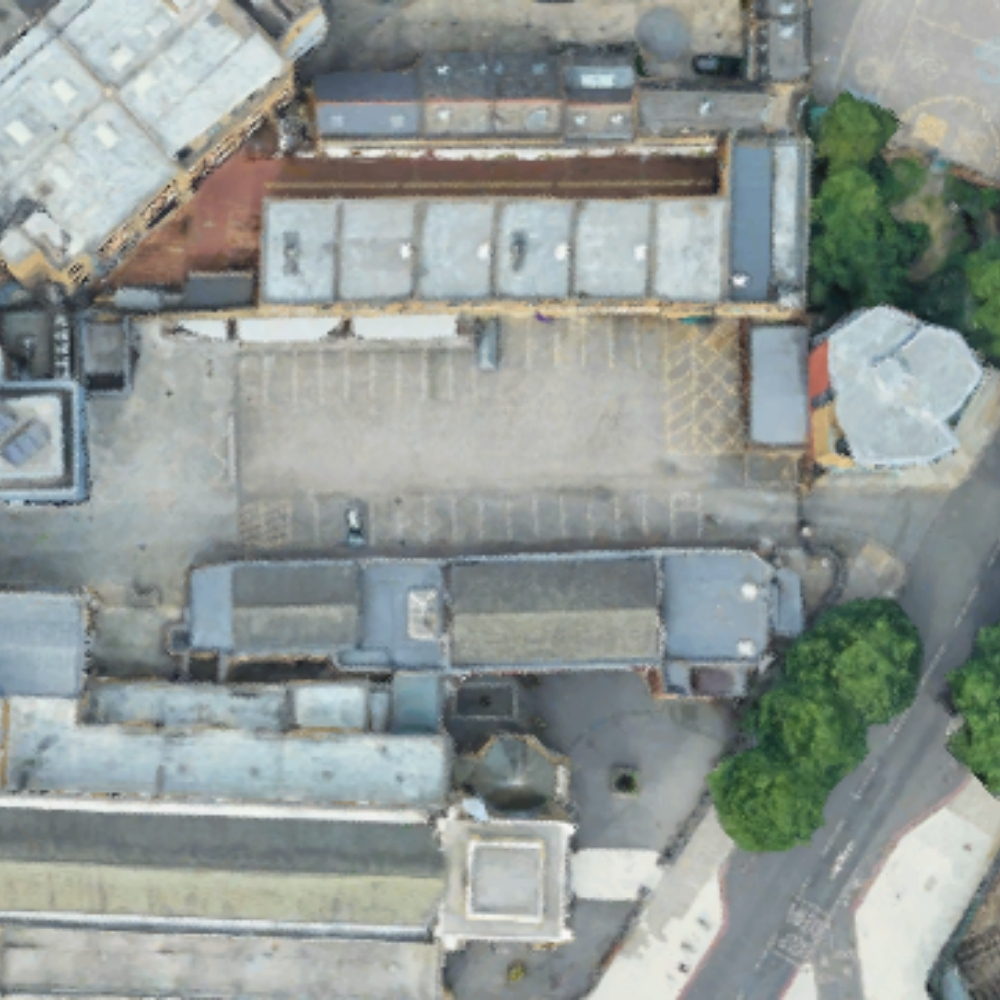parking: (235, 370, 750, 550)
